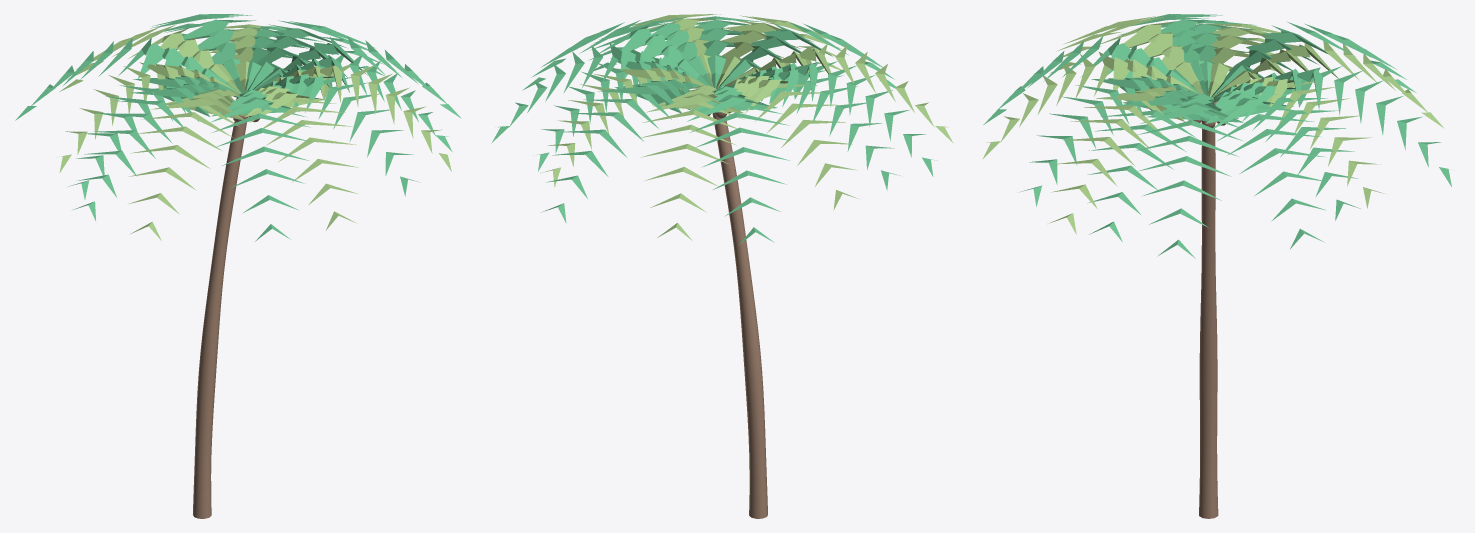
The model's file is palm_1.glb.
3 renders of one model, left to right at view 1: azimuth 30°, elevation 25°; view 2: azimuth 150°, elevation 25°; view 3: azimuth 270°, elevation 25°, orthographic. The views are drawn at different scales.
Visible parts, largest first — view 1: Coconut; view 2: Coconut; view 3: Coconut.
Boxes of the visible parts, box(x1,y1,x2,y2) form: Coconut: box(15, 14, 461, 518); Coconut: box(491, 14, 953, 518); Coconut: box(982, 14, 1451, 518).
Size of the model in its own units: 9.57 by 10.35 by 9.44.
